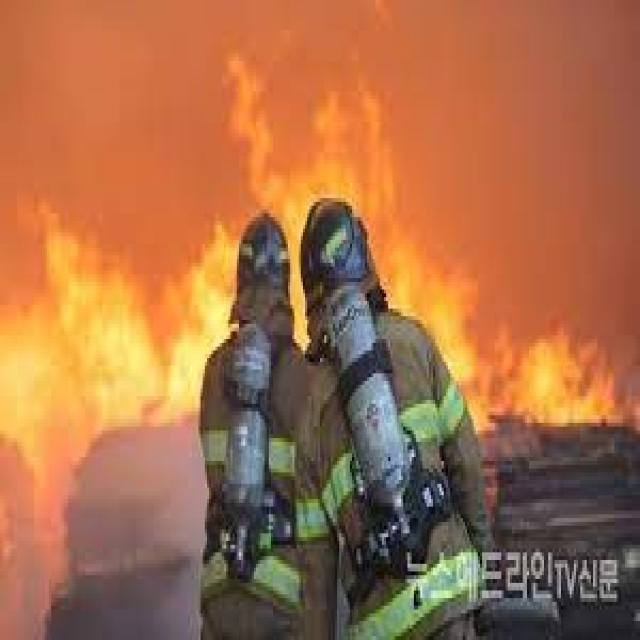Fire: (41, 288, 146, 420), (521, 340, 596, 430), (308, 112, 359, 198), (200, 275, 226, 337)
Smoke: (426, 18, 610, 286), (28, 19, 241, 238)
